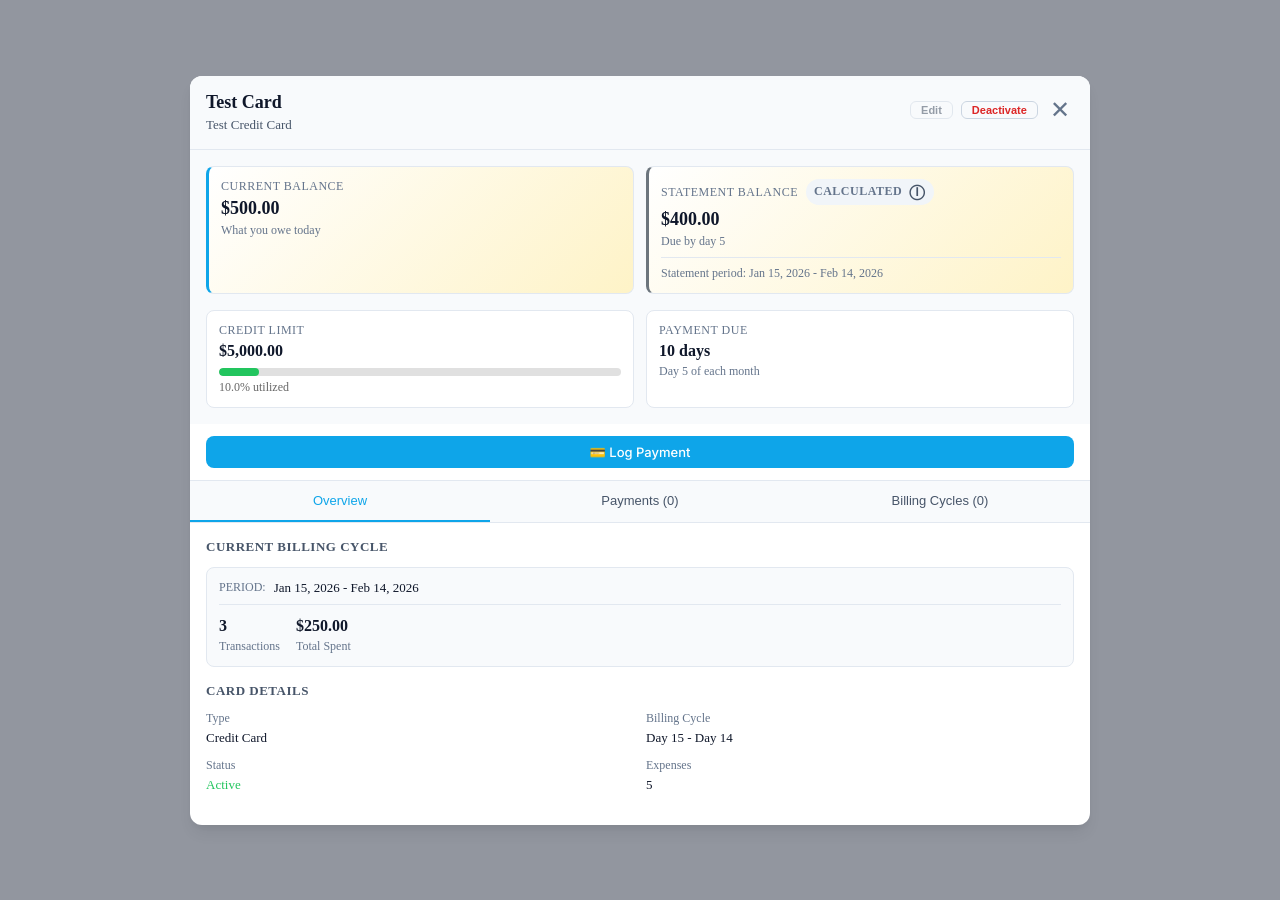
Test: CreditCardDetailView › Deactivate button functionality (Req 1.5, 1.6) › should display error message when deactivation fails
Expected: the heading "Test Card" is shown, 206,92 -> 292,112
Note: Click Deactivate button
Click the button "Deactivate": (999, 110) 961,100 -> 1038,118
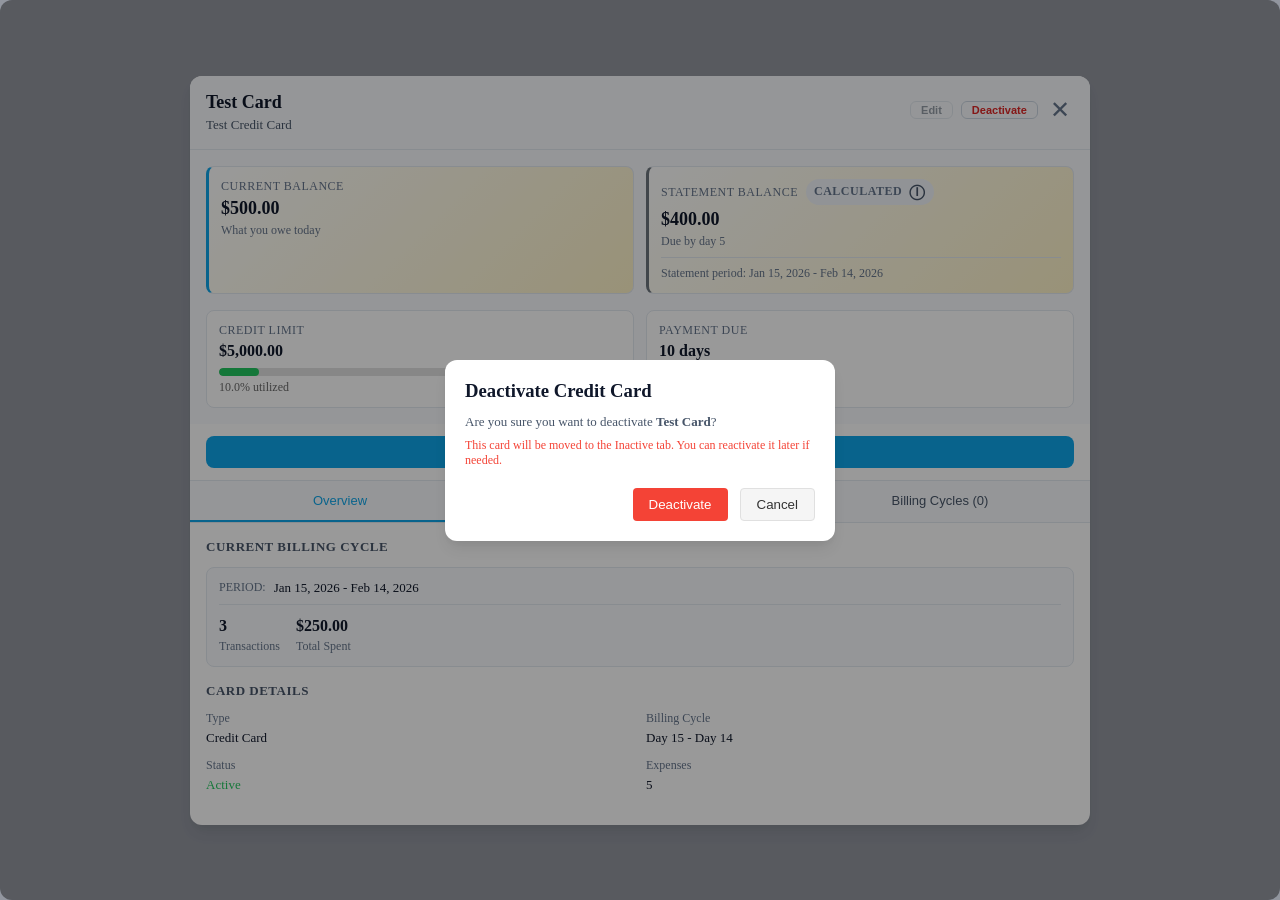
Expected: the heading "Deactivate Credit Card" is shown, 465,380 -> 652,400
Note: Click confirm button in dialog
Click the button "Deactivate": (680, 504) 632,488 -> 728,520
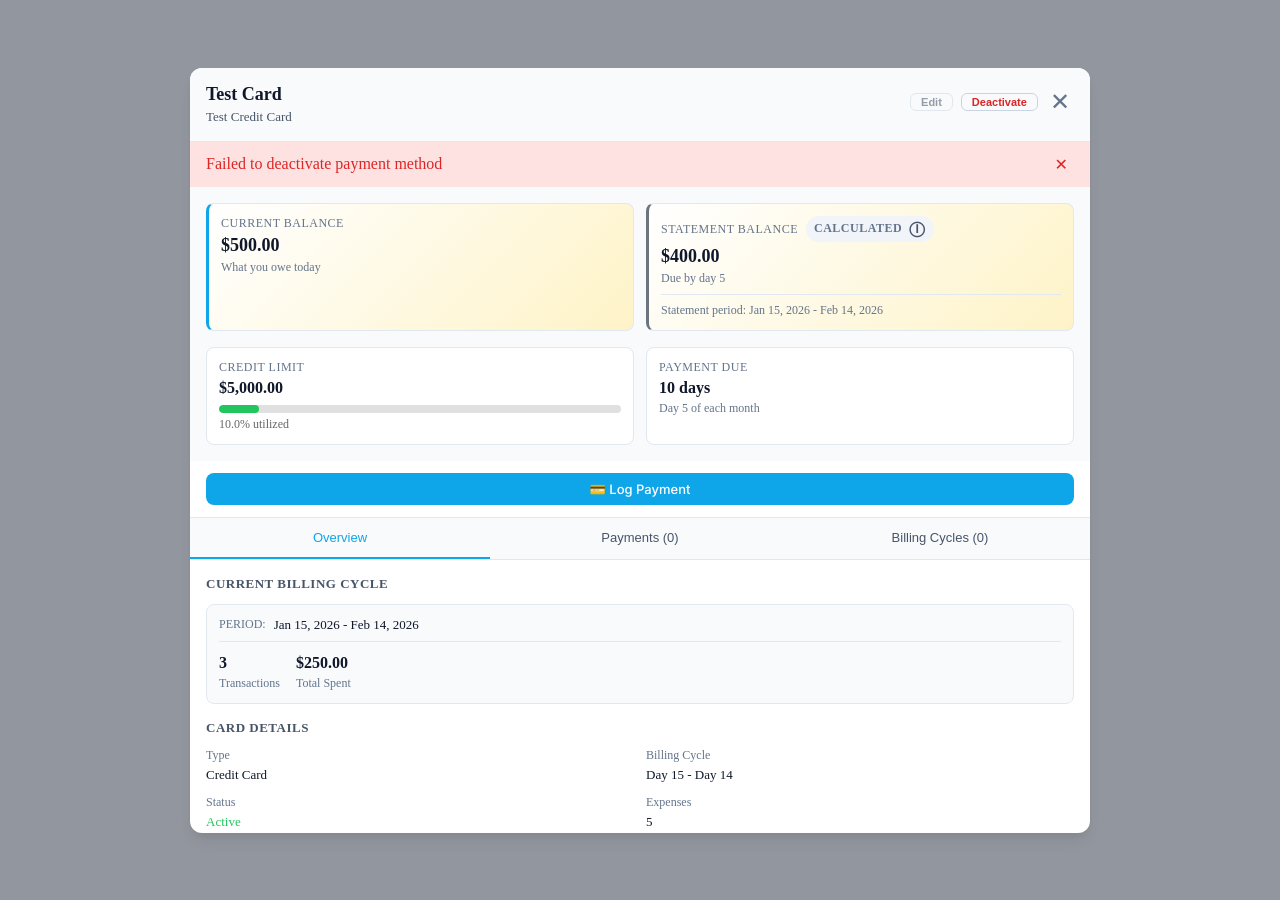
Expected: the text "Failed to deactivate payment method" is shown, 206,155 -> 442,172
